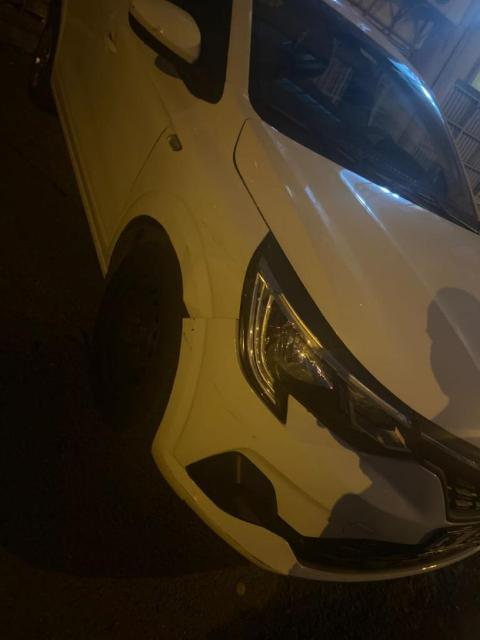dent: (185, 304, 204, 319)
dislocated part: (182, 301, 249, 334)
scratch: (212, 236, 237, 264), (180, 482, 200, 504), (223, 530, 245, 549), (249, 551, 273, 568), (211, 379, 225, 401), (226, 409, 240, 421), (183, 337, 193, 351), (199, 219, 210, 231), (185, 244, 190, 254), (251, 434, 257, 440)
